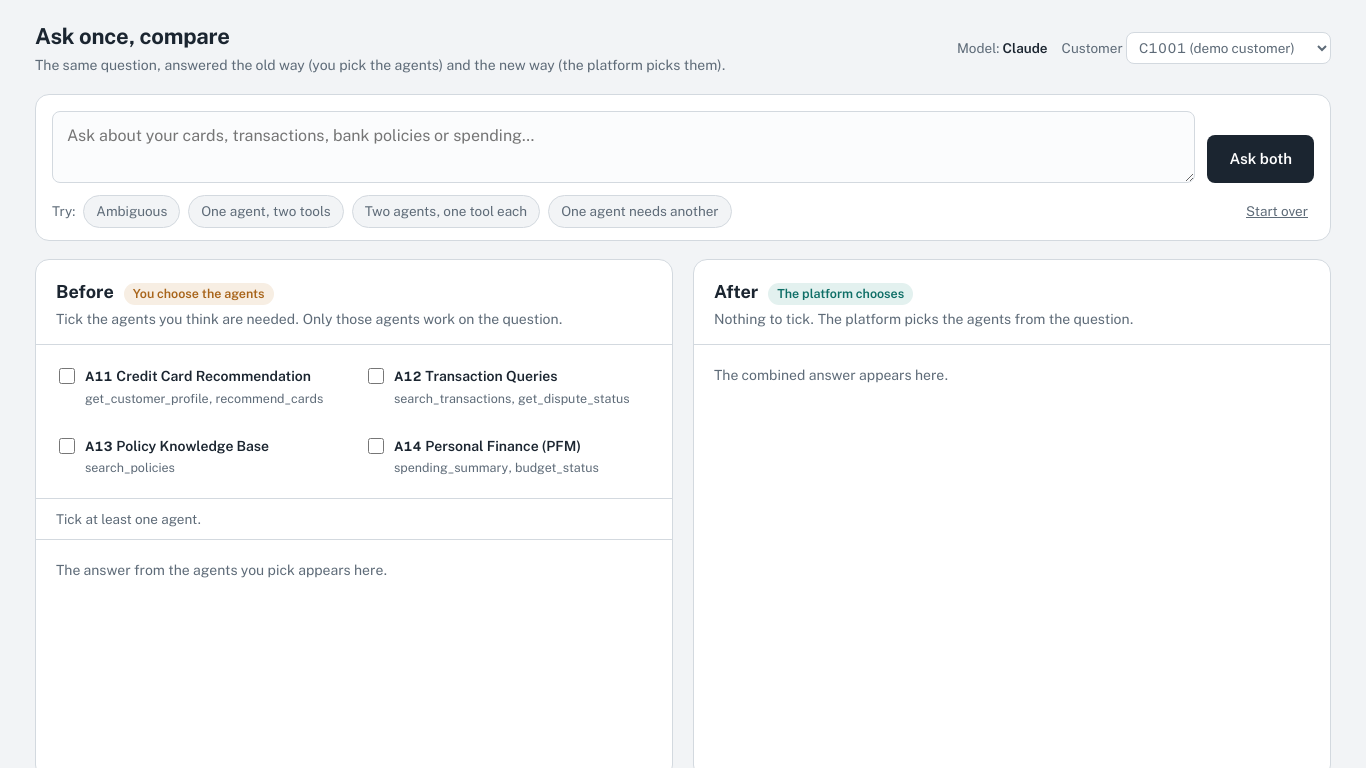
Test: App › renders Claude's Markdown answers as formatted text, tables included
Expected: the text "Policy Knowledge Base" is shown, [116,438,269,454]
Type "hi" into the text box named "Your question" at (624, 147), box [52,111,1195,183]
Then press Enter
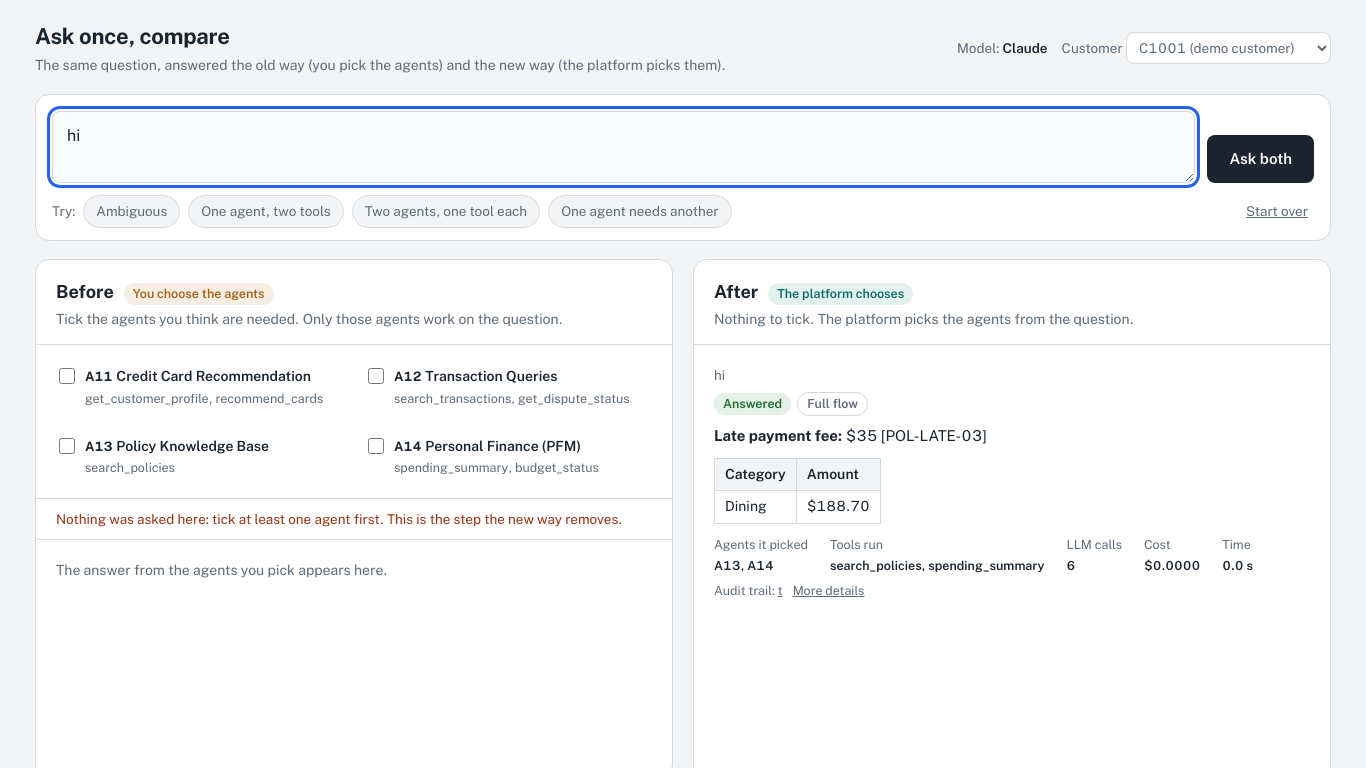
Now the text "Late payment fee:" is shown, box [714,427,842,444]
Now the cell "Dining" is shown, box [714,491,796,524]
